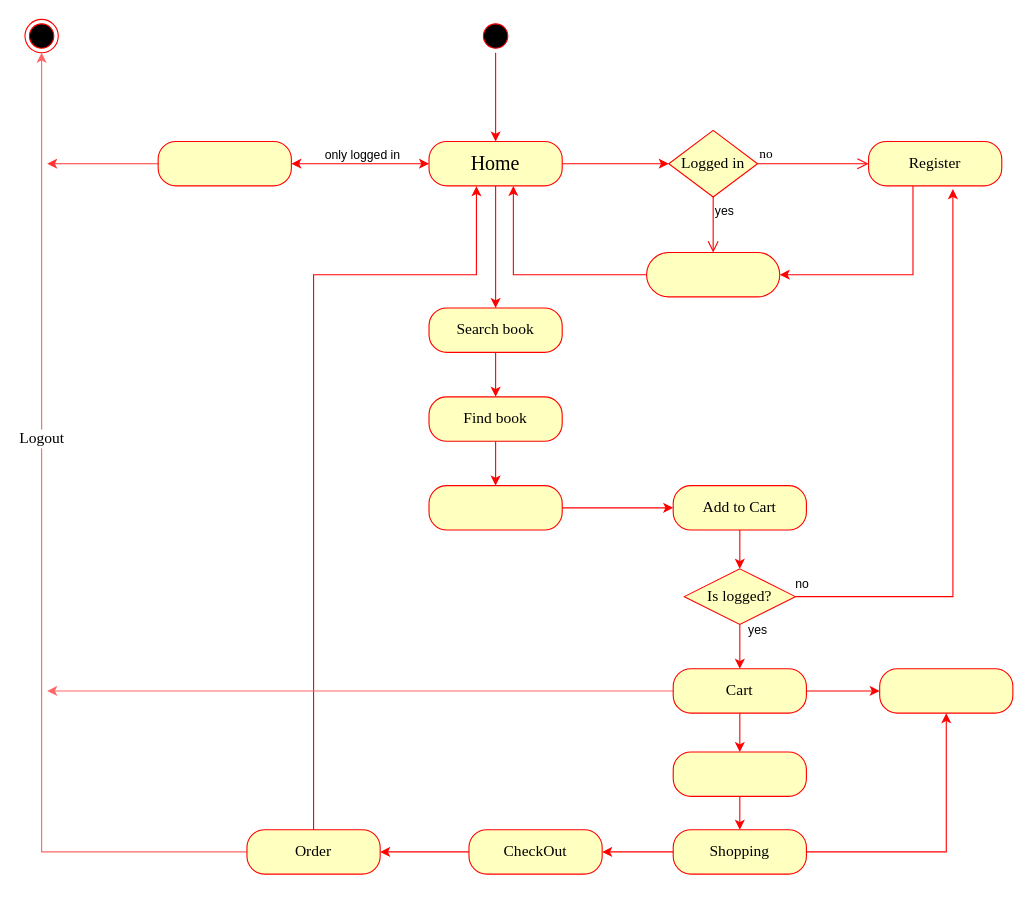
This 1032x902 diagram has some shape labels left out. Here are the shapes that lost their labels. From the top down, the centre of each, then its label:
At pixel 224 163: "Prolile".
At pixel 712 274: "Login".
At pixel 495 507: "Details book".
At pixel 946 690: "Clear Cart".
At pixel 739 773: "Go to CheckOut".
